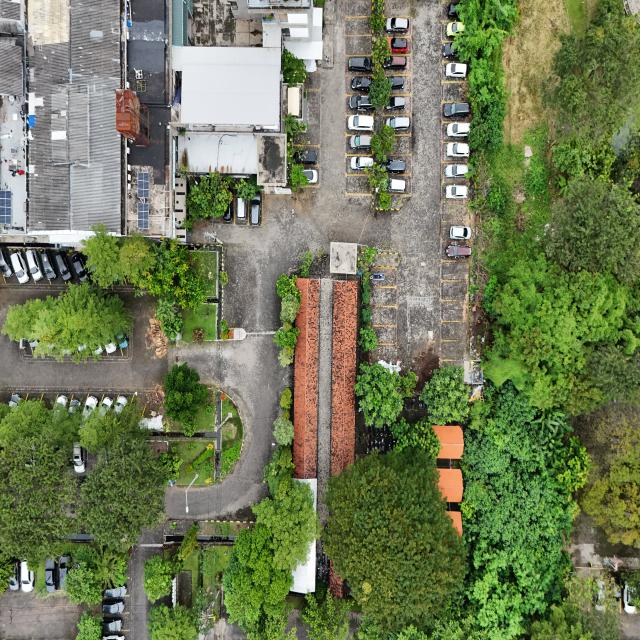Tree: (357, 361, 405, 428), (162, 361, 210, 426), (424, 368, 468, 418), (140, 556, 175, 603), (371, 120, 396, 158), (287, 156, 308, 190), (232, 179, 260, 201), (275, 414, 295, 444), (358, 324, 378, 351), (378, 188, 392, 210), (280, 388, 292, 408), (217, 318, 231, 333)
